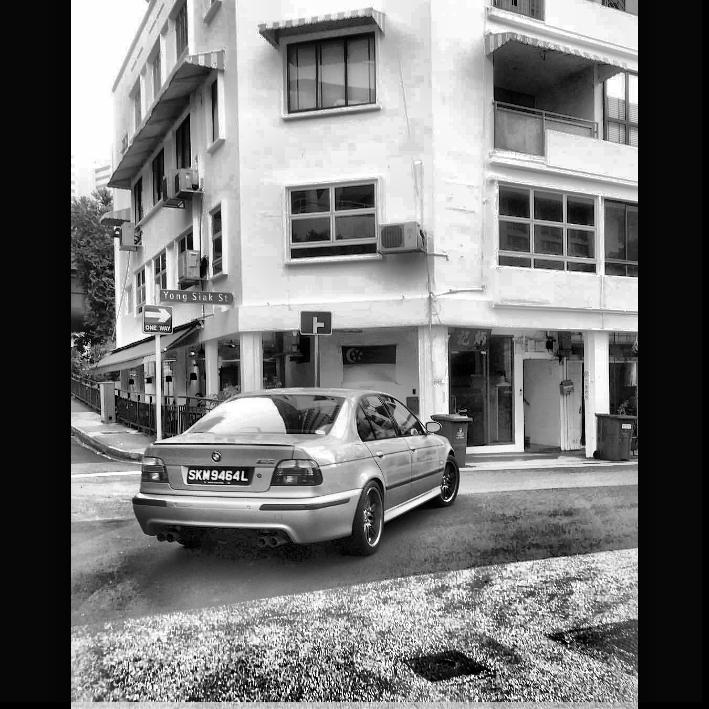License-Plates: (187, 467, 249, 482)
